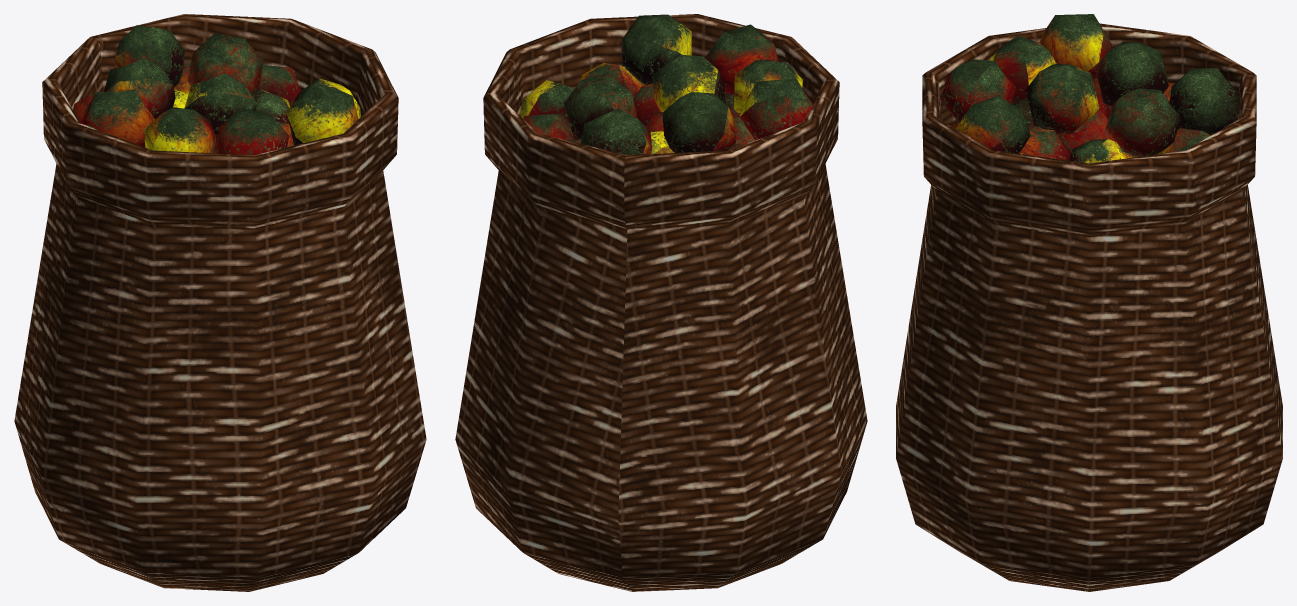
The model's file is Basket.fbx.
3 renders of one model, left to right at view 1: azimuth 30°, elevation 25°; view 2: azimuth 150°, elevation 25°; view 3: azimuth 270°, elevation 25°, orthographic.
Visible parts, largest first — view 1: BasketMesh; view 2: BasketMesh; view 3: BasketMesh.
Part boxes in pixels (<box>): BasketMesh: <box>14,14,426,591</box>; BasketMesh: <box>455,14,867,591</box>; BasketMesh: <box>896,14,1282,591</box>.
Size of the model in its own units: 114 by 144 by 108.
1 material, 1 textured.
